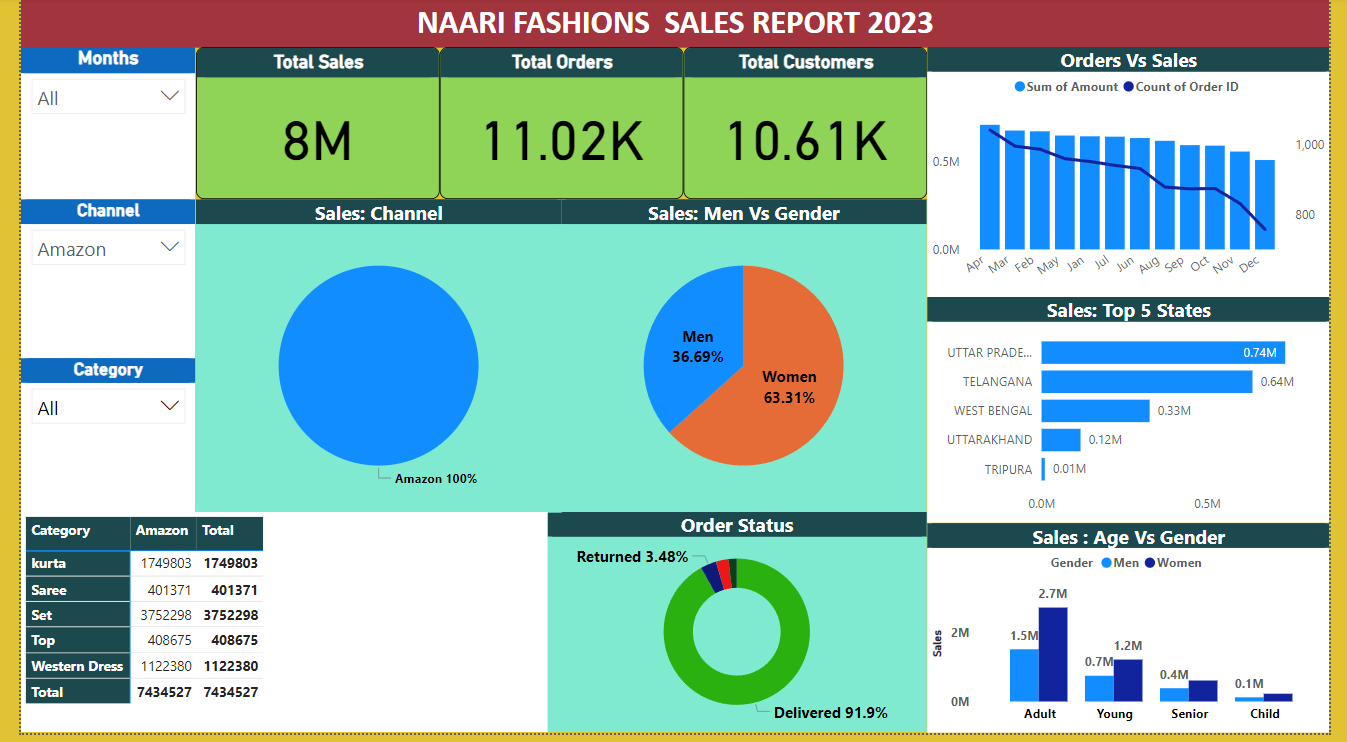

Layout of this report page (visuals, bound fields, positions):
{"tool":"powerbi","page":{"name":"Page 1","canvas":[1280,720],"ordinal":0},"visuals":[{"type":"shape","box":[0,0,1280.3,61.7],"z":0},{"type":"textbox","box":[0,0,1280.3,49.4],"z":1000},{"type":"card","title":"Total Orders","fields":{"Values":["CountNonNull(Vrinda Store.Order ID)"]},"box":[409.1,48.8,238.4,149],"z":2000},{"type":"card","title":"Total Sales","fields":{"Values":["Sum(Vrinda Store.Amount)"]},"box":[170.7,48.8,238.4,149],"z":3000},{"type":"card","title":"Total Customers","fields":{"Values":["Count(Vrinda Store.Cust ID)"]},"box":[647.6,48.8,238.4,149],"z":4000},{"type":"slicer","title":"Months","fields":{"Values":["Vrinda Store.Month_Name"]},"box":[0,48.8,170.7,149],"z":5000},{"type":"slicer","title":"Channel","fields":{"Values":["Vrinda Store.Channel "]},"box":[0,197.8,170.7,155.8],"z":6000},{"type":"slicer","title":"Category","fields":{"Values":["Vrinda Store.Category"]},"box":[0,353.6,170.7,150.4],"z":7000},{"type":"lineClusteredColumnComboChart","title":"Orders Vs Sales","fields":{"Category":["Vrinda Store.Month_Name"],"Y":["Sum(Vrinda Store.Amount)"],"Y2":["CountNonNull(Vrinda Store.Order ID)"]},"box":[886,48.8,394.2,245.2],"z":8000},{"type":"pieChart","title":" Sales: Men Vs Gender","fields":{"Category":["Vrinda Store.Gender"],"Y":["Sum(Vrinda Store.Amount)"]},"box":[528.4,197.8,357.7,306.2],"z":9000},{"type":"donutChart","title":"Order Status","fields":{"Category":["Vrinda Store.Status"],"Y":["CountNonNull(Vrinda Store.Order ID)"]},"box":[514.8,504,371.2,215.4],"z":10000},{"type":"clusteredColumnChart","title":"Sales : Age Vs Gender","fields":{"Category":["Vrinda Store.Age_Group"],"Y":["Sum(Vrinda Store.Amount)"],"Series":["Vrinda Store.Gender"]},"box":[886,514.8,394.2,204.6],"z":11000},{"type":"pieChart","title":"Sales: Channel","fields":{"Category":["Vrinda Store.Channel "],"Y":["Sum(Vrinda Store.Amount)"]},"box":[170.7,197.8,357.7,306.2],"z":12000},{"type":"clusteredBarChart","title":"Sales: Top 5 States","fields":{"Category":["Vrinda Store.ship-state"],"Y":["Sum(Vrinda Store.Amount)"]},"box":[886,294,394.2,220.8],"z":13000},{"type":"pivotTable","fields":{"Rows":["Vrinda Store.Category"],"Values":["Sum(Vrinda Store.Amount)"],"Columns":["Vrinda Store.Channel "]},"box":[0,504,514.8,215.4],"z":14000}]}

Visuals, with their boxes in screenshot pixels (x1, y1, x2, y2), scaled from the page's 1280x720 canvas onto the 1347x742 screenshot:
shape: left=0, top=0, right=1346, bottom=64
textbox: left=0, top=0, right=1346, bottom=51
"Total Orders" card: left=431, top=50, right=681, bottom=204
"Total Sales" card: left=180, top=50, right=431, bottom=204
"Total Customers" card: left=681, top=50, right=932, bottom=204
"Months" slicer: left=0, top=50, right=180, bottom=204
"Channel" slicer: left=0, top=204, right=180, bottom=364
"Category" slicer: left=0, top=364, right=180, bottom=519
"Orders Vs Sales" lineClusteredColumnComboChart: left=932, top=50, right=1346, bottom=303
" Sales: Men Vs Gender" pieChart: left=556, top=204, right=932, bottom=519
"Order Status" donutChart: left=542, top=519, right=932, bottom=741
"Sales : Age Vs Gender" clusteredColumnChart: left=932, top=531, right=1346, bottom=741
"Sales: Channel" pieChart: left=180, top=204, right=556, bottom=519
"Sales: Top 5 States" clusteredBarChart: left=932, top=303, right=1346, bottom=531
pivotTable - Vrinda Store.Category x Sum(Vrinda Store.Amount): left=0, top=519, right=542, bottom=741
